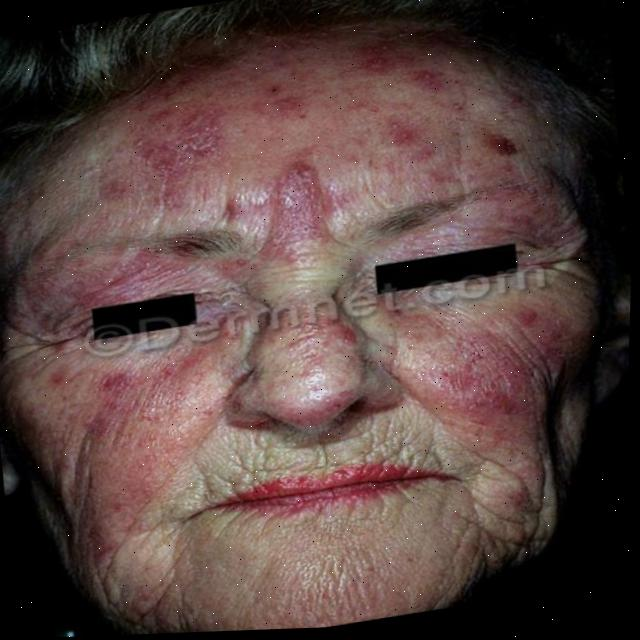Rosacea: (7, 265, 631, 521), (108, 13, 567, 275)
